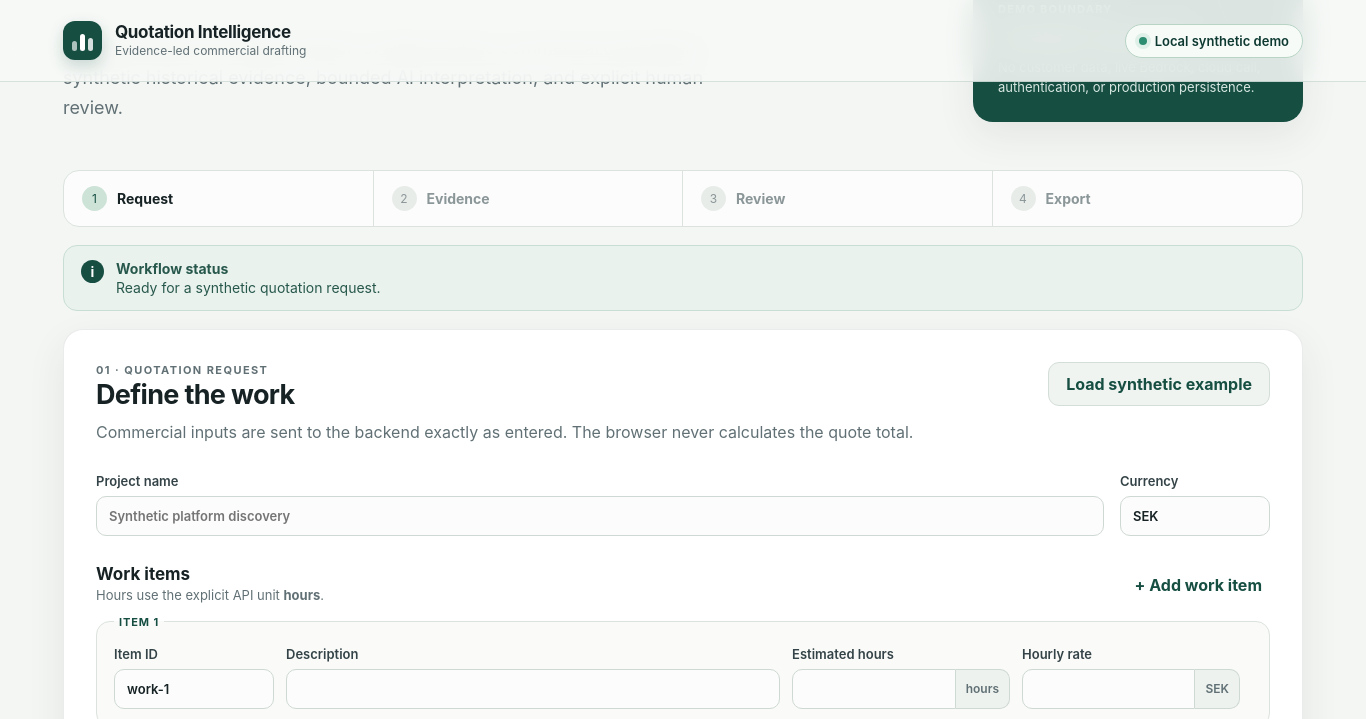
Test: C20 quotation workflow › renders backend totals, comparisons, provenance, and AI interpretation as separate authorities
The width and height of the screenshot is (1366, 719).
(page scrolled)
Click the button "Load synthetic example" at (1159, 384), box x1=1048 y1=362 x2=1270 y2=406
(page scrolled)
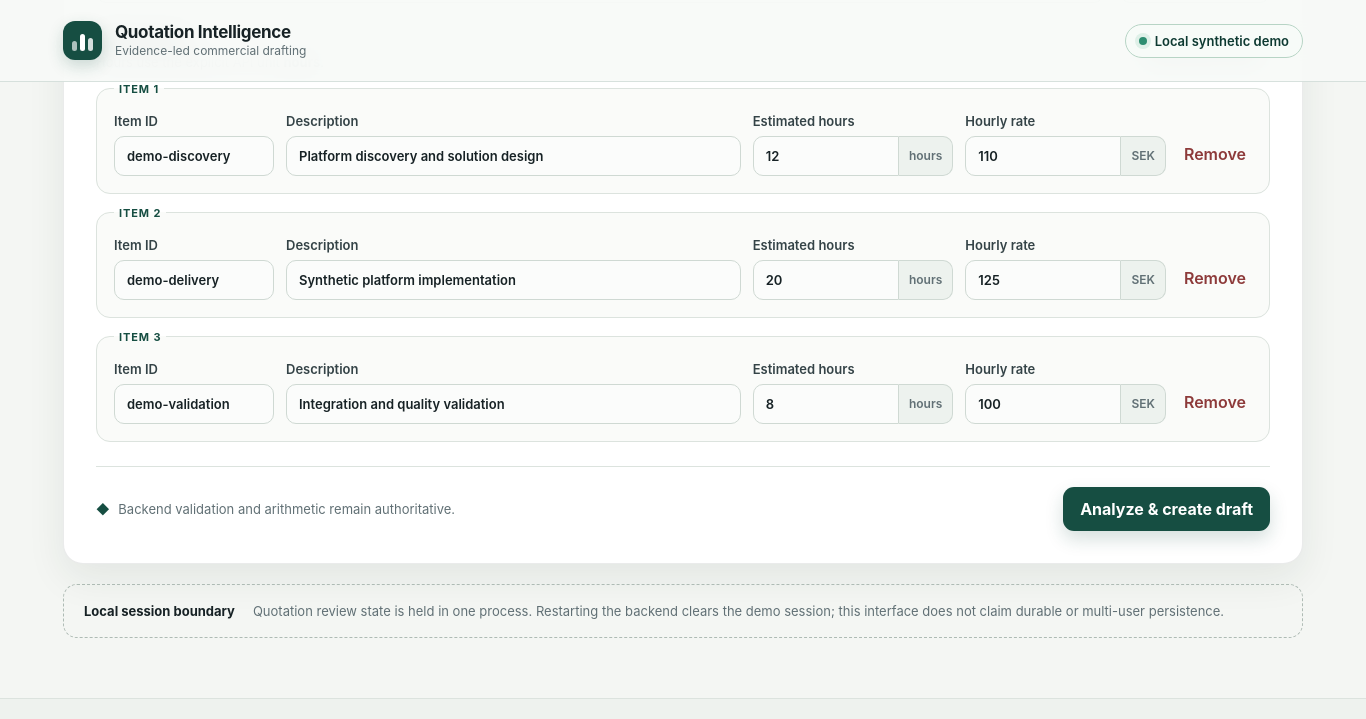
Click the button "Analyze & create draft" at (1167, 509), box x1=1063 y1=487 x2=1270 y2=531
(page scrolled)
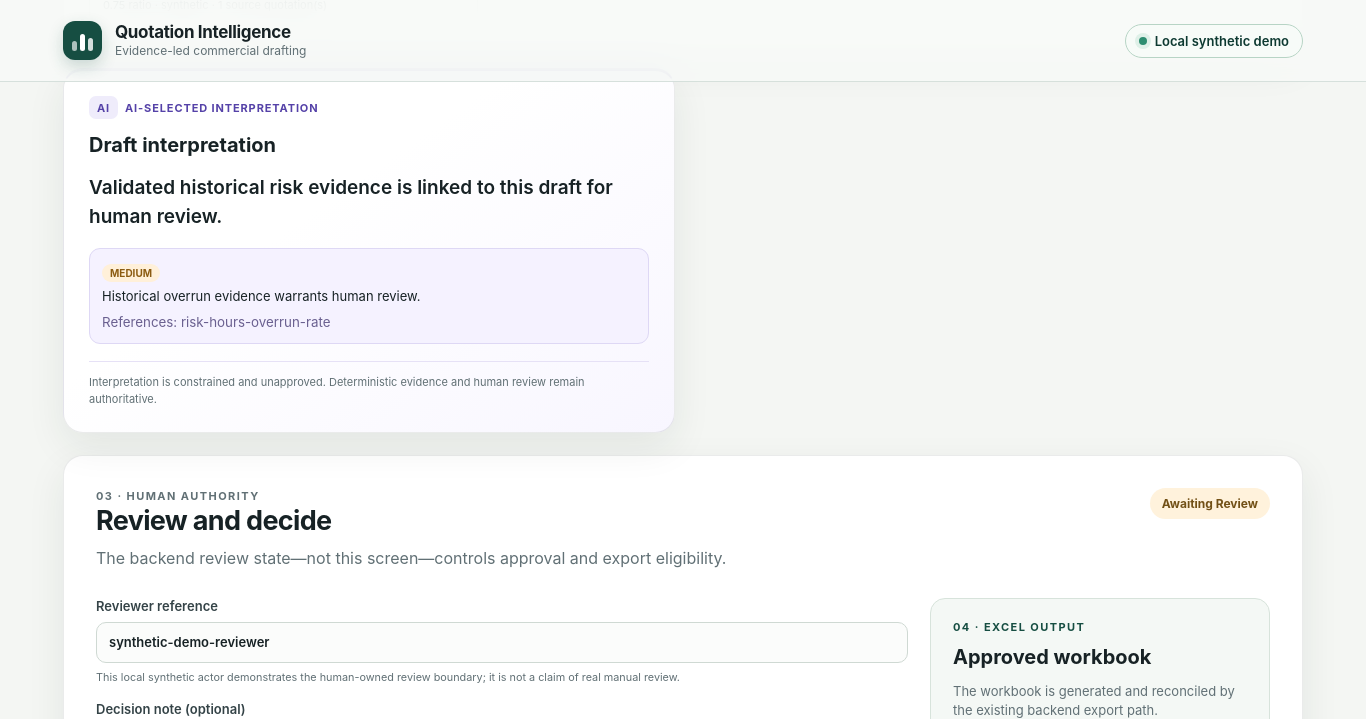
Expected: the text "AI AI-selected interpretation" is shown, x1=89 y1=96 x2=318 y2=119
